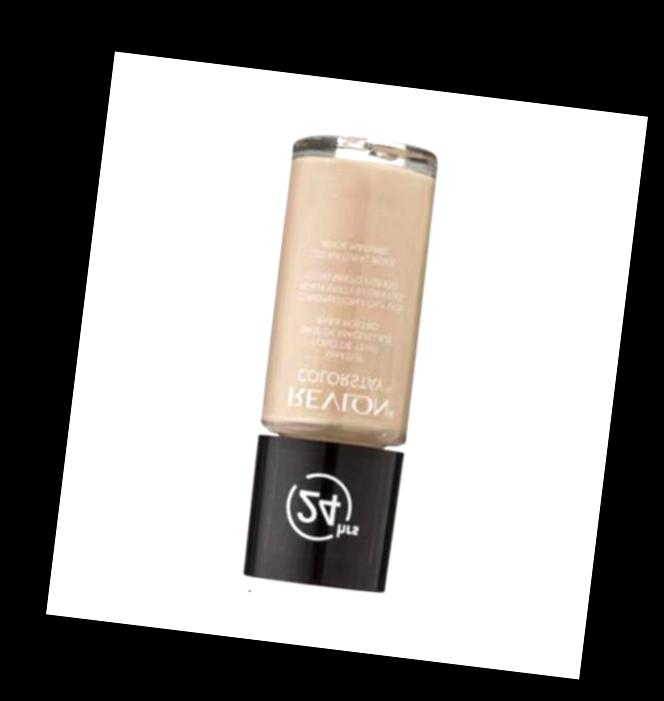cosmetic: (238, 134, 439, 592)
